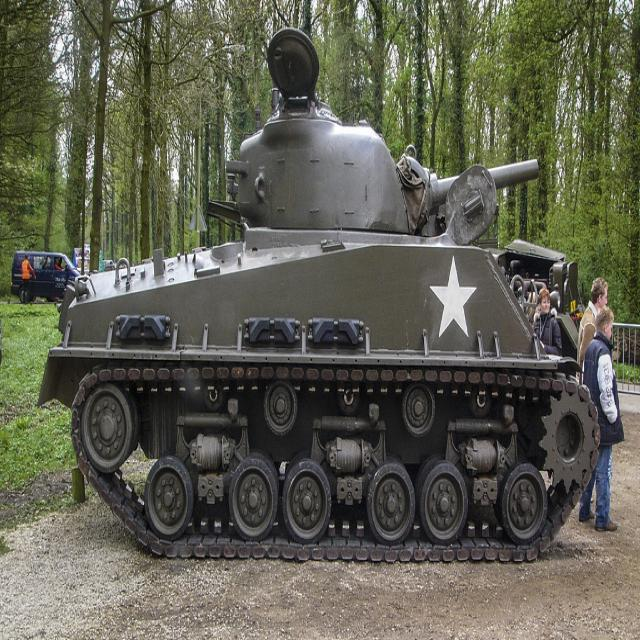tank: (36, 22, 602, 562)
